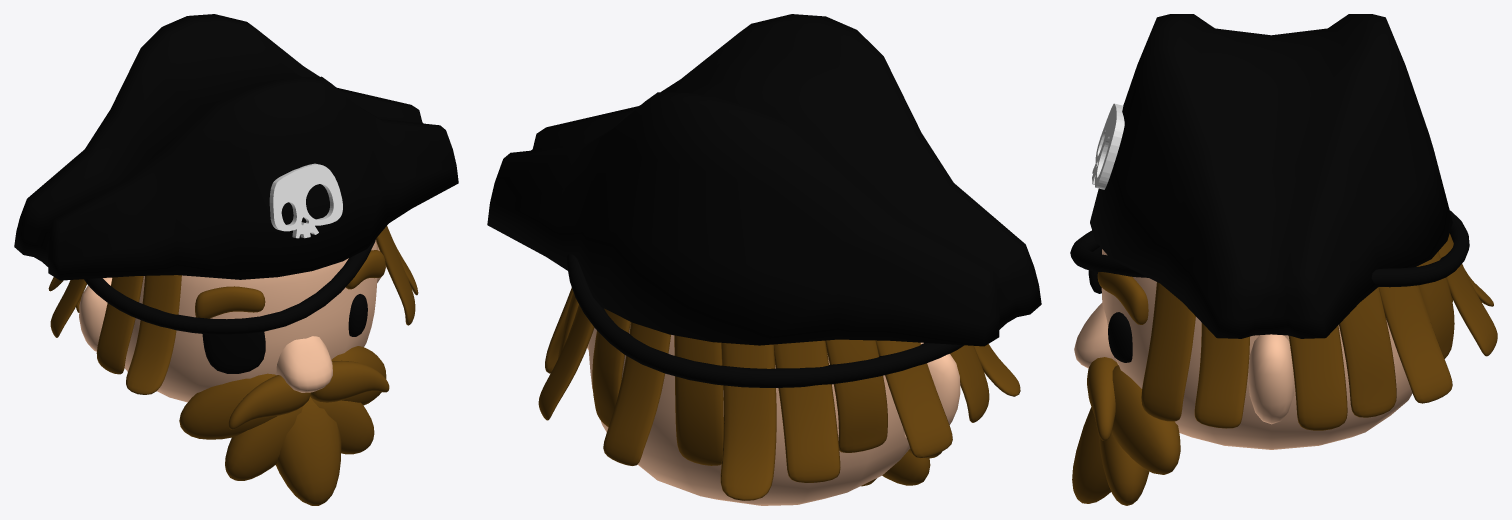
File: Pirate_Head1.glb
3 renders of one model, left to right at view 1: azimuth 30°, elevation 25°; view 2: azimuth 150°, elevation 25°; view 3: azimuth 270°, elevation 25°, orthographic. The views are drawn at different scales.
Parts seen in each view (by area): view 1: Pirate_Head1; view 2: Pirate_Head1; view 3: Pirate_Head1.
Part boxes in pixels (x1=…): Pirate_Head1: x1=14, y1=14, x2=458, y2=505; Pirate_Head1: x1=487, y1=14, x2=1041, y2=505; Pirate_Head1: x1=1070, y1=14, x2=1497, y2=505.
Bounding box in the file's own units: 2.35 × 2.22 × 1.82.
